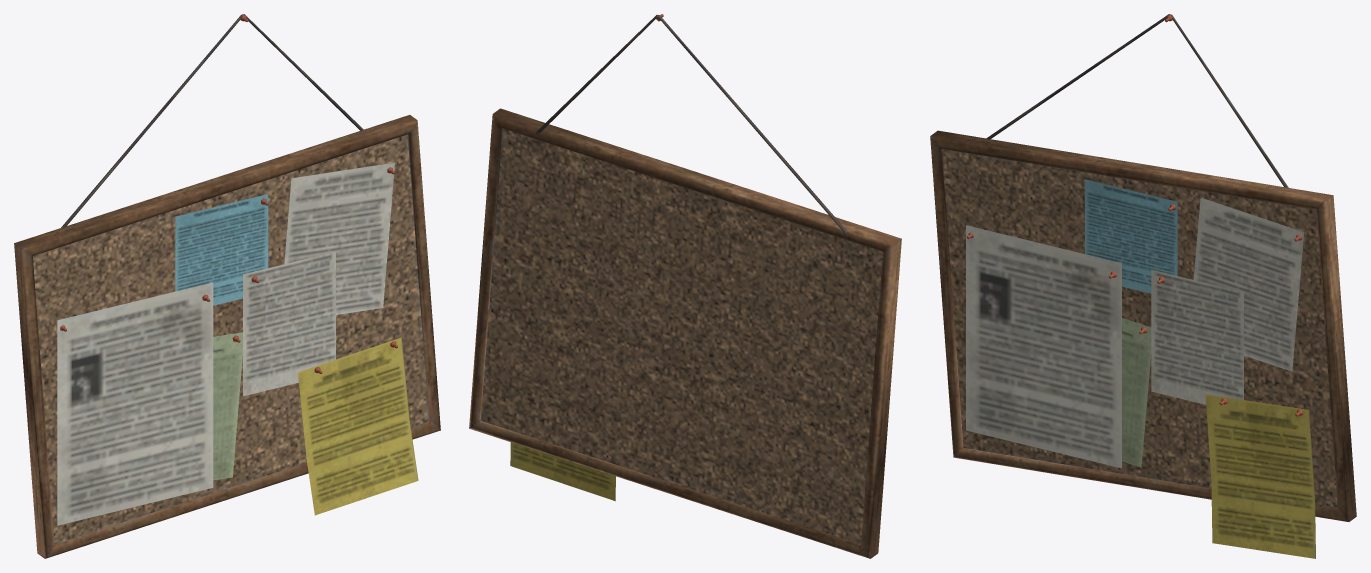
The model's file is 062_CorkBoard.fbx.
3 renders of one model, left to right at view 1: azimuth 30°, elevation 25°; view 2: azimuth 150°, elevation 25°; view 3: azimuth 330°, elevation 25°, orthographic.
Visible parts, largest first — view 1: LOD_1_Group_0_Sub_2__sm36_049_Paper01A_A_Mat, LOD_1_Group_0_Sub_1__sm30_062_CorkBoard01A_A_Mat; view 2: LOD_1_Group_0_Sub_1__sm30_062_CorkBoard01A_A_Mat, LOD_1_Group_0_Sub_2__sm36_049_Paper01A_A_Mat; view 3: LOD_1_Group_0_Sub_2__sm36_049_Paper01A_A_Mat, LOD_1_Group_0_Sub_1__sm30_062_CorkBoard01A_A_Mat.
Boxes of the visible parts, x1,y1,x2,y2 form: LOD_1_Group_0_Sub_2__sm36_049_Paper01A_A_Mat: (57, 162, 418, 525); LOD_1_Group_0_Sub_1__sm30_062_CorkBoard01A_A_Mat: (14, 14, 440, 558); LOD_1_Group_0_Sub_1__sm30_062_CorkBoard01A_A_Mat: (469, 14, 901, 558); LOD_1_Group_0_Sub_2__sm36_049_Paper01A_A_Mat: (510, 442, 615, 501); LOD_1_Group_0_Sub_2__sm36_049_Paper01A_A_Mat: (966, 179, 1315, 558); LOD_1_Group_0_Sub_1__sm30_062_CorkBoard01A_A_Mat: (930, 14, 1356, 521).
Size of the model in its own units: 1.33 by 1.53 by 0.0852.
